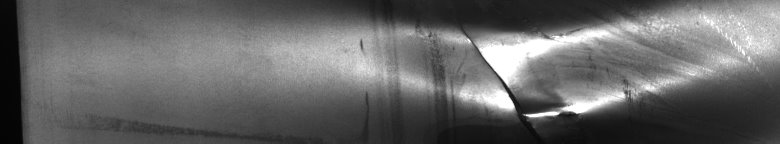ke: (360, 4, 750, 136)
